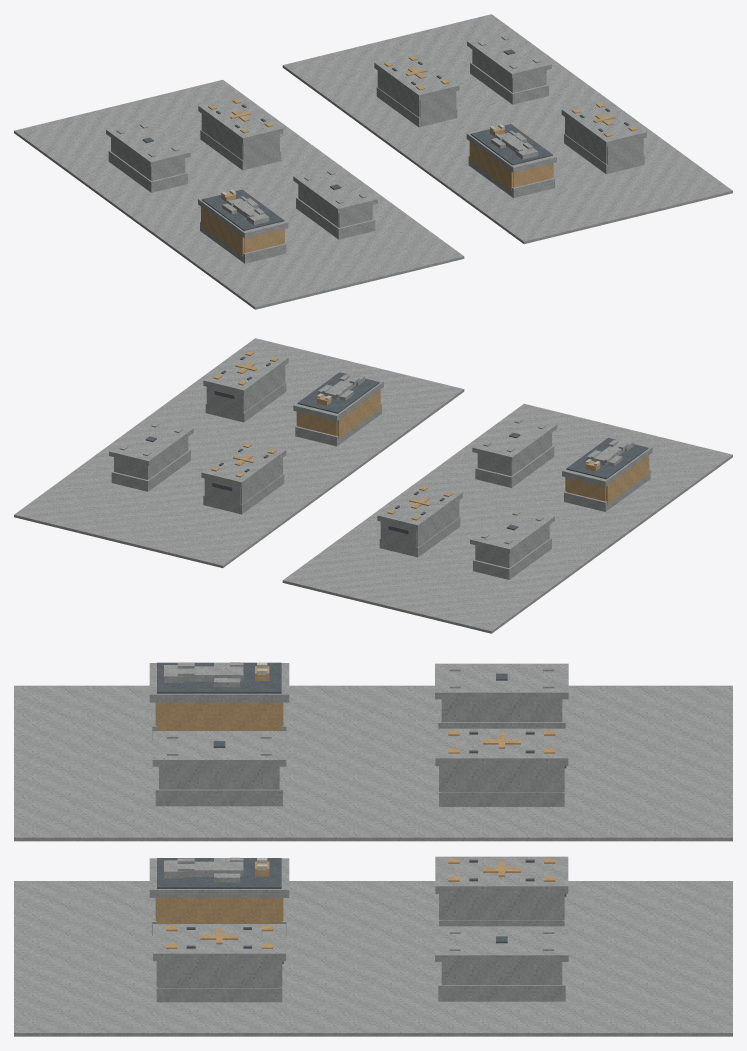
Rendered from castle-crypt-preview.glb.
3 views of the same model, one above another, from view 1: azimuth 30°, elevation 25°; view 2: azimuth 150°, elevation 25°; view 3: azimuth 270°, elevation 25° (orthographic). The views are drawn at different scales.
Parts seen in each view (by area): view 1: review_fit_crypt; view 2: review_fit_crypt; view 3: review_fit_crypt.
Boxes of the visible parts, left/top/right/bottom form: review_fit_crypt: left=14, top=14, right=732, bottom=309; review_fit_crypt: left=14, top=338, right=732, bottom=633; review_fit_crypt: left=14, top=662, right=732, bottom=1036.
Bounding box in the file's own units: 16 × 1.37 × 14.
Materials: 4 (4 with a texture image).
